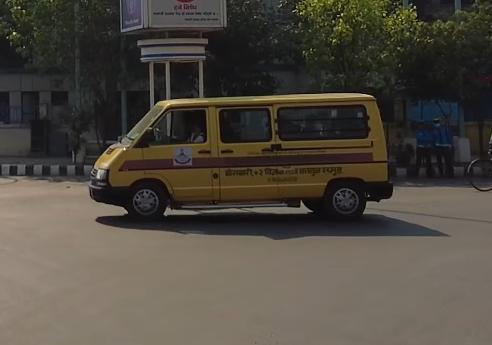school_bus: (85, 91, 393, 230)
